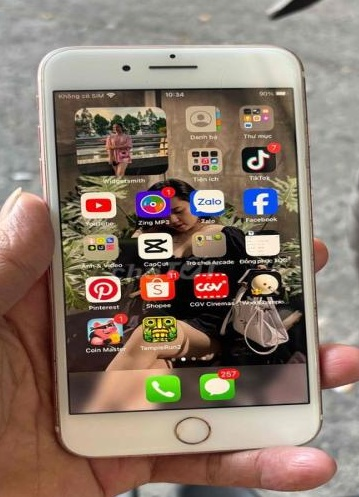scratch: (167, 411, 217, 448)
